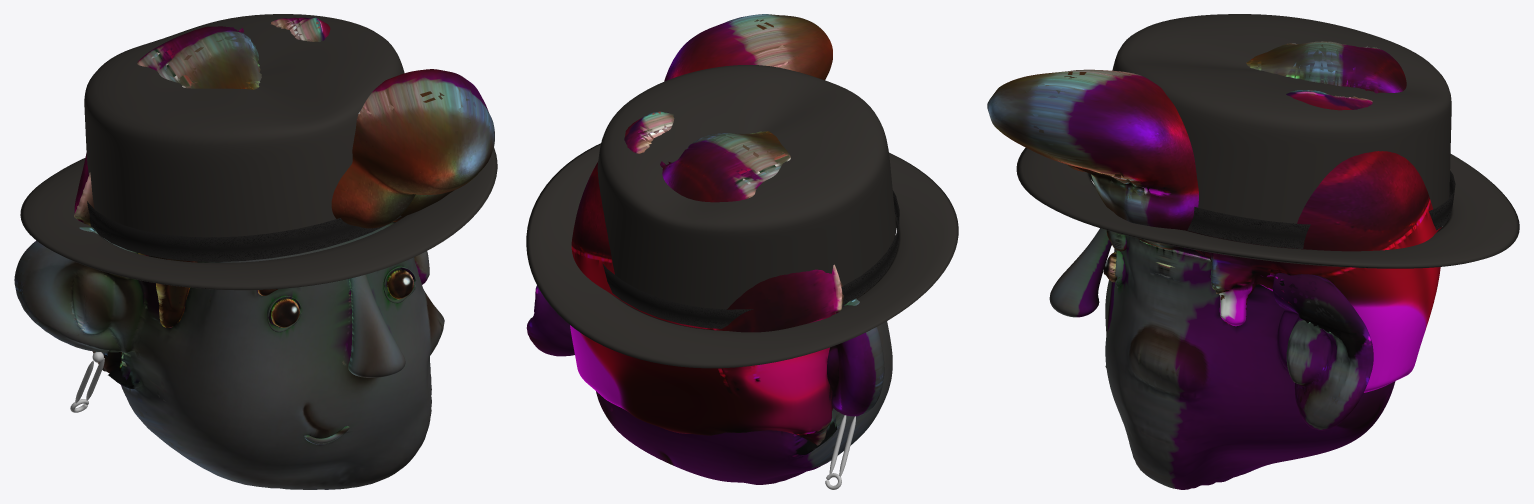
3 renders of one model, left to right at view 1: azimuth 30°, elevation 25°; view 2: azimuth 150°, elevation 25°; view 3: azimuth 270°, elevation 25°, orthographic. The views are drawn at different scales.
Visible parts, largest first — view 1: Hat, Skin, Hair, HatBand, Pin, EyeL, EyeR; view 2: Hat, Hair, Skin, HatBand, Pin; view 3: Hat, Skin, Hair, HatBand.
Boxes of the visible parts, left/top/right/bottom form: Hat: left=20, top=14, right=497, bottom=290; Skin: left=14, top=222, right=444, bottom=489; Hair: left=74, top=17, right=494, bottom=373; HatBand: left=87, top=201, right=401, bottom=261; Pin: left=70, top=352, right=104, bottom=412; EyeL: left=271, top=298, right=299, bottom=327; EyeR: left=387, top=269, right=413, bottom=299; Hat: left=526, top=65, right=958, bottom=368; Hair: left=570, top=14, right=866, bottom=445; Skin: left=526, top=285, right=892, bottom=484; HatBand: left=603, top=190, right=899, bottom=328; Pin: left=825, top=415, right=855, bottom=489; Hat: left=1016, top=14, right=1519, bottom=268; Skin: left=1049, top=228, right=1395, bottom=489; Hair: left=987, top=41, right=1441, bottom=392; HatBand: left=1088, top=170, right=1455, bottom=248.
Bounding box in the file's own units: 2.83 × 2.87 × 3.22.
Materials: 11 (7 with a texture image).
